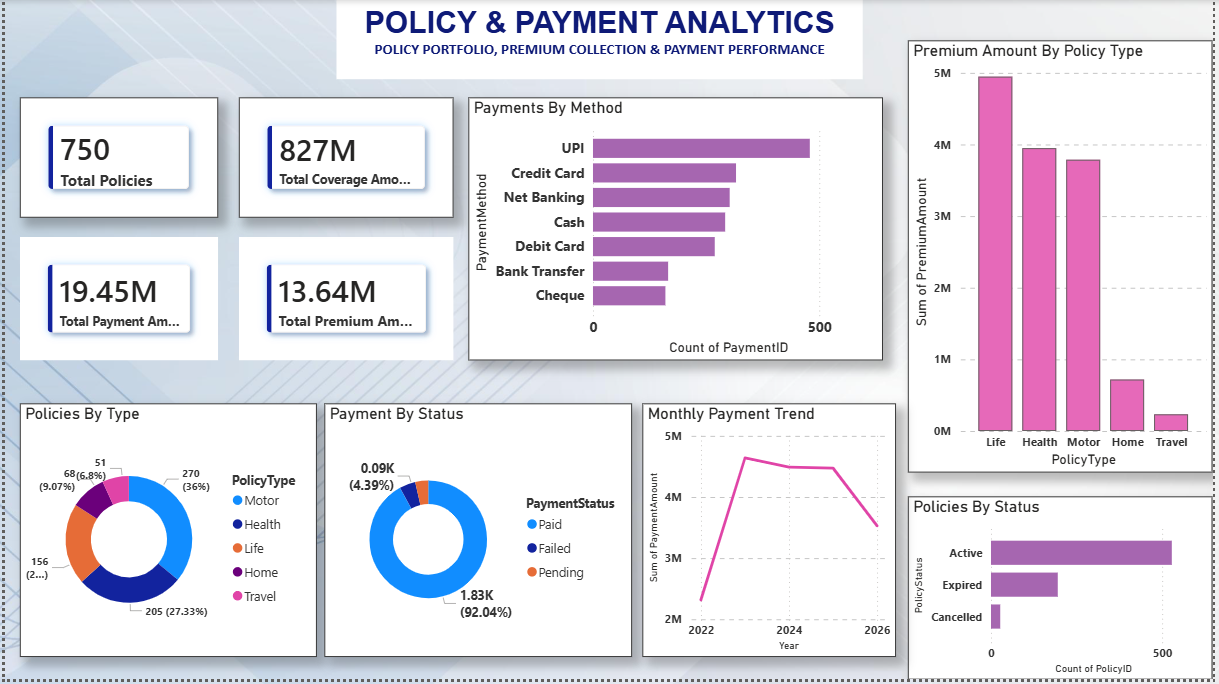

Layout of this report page (visuals, bound fields, positions):
{"tool":"powerbi","page":{"name":"Policy & Payment Analytics","canvas":[1280,720],"ordinal":2},"visuals":[{"type":"textbox","box":[351.5,0,558.3,84.3],"z":0},{"type":"cardVisual","fields":{"Data":["Claims.Total Premium Amount"]},"box":[248.1,251.3,227.5,130.4],"z":1000},{"type":"cardVisual","fields":{"Data":["Policies.Total Policies"]},"box":[15.9,103.4,210,127.2],"z":2000},{"type":"cardVisual","fields":{"Data":["Claims.Total Coverage Amount"]},"box":[248.1,103.4,227.5,127.2],"z":3000},{"type":"cardVisual","fields":{"Data":["Claims.Total Payment Amount"]},"box":[15.9,251.3,210,130.4],"z":4000},{"type":"donutChart","title":"Policies By Type","fields":{"Category":["Policies.PolicyType"],"Y":["CountNonNull(Policies.PolicyID)"]},"box":[15.9,427.9,314.9,268.8],"z":5000},{"type":"clusteredBarChart","title":"Policies By Status","fields":{"Category":["Policies.PolicyStatus"],"Y":["CountNonNull(Policies.PolicyID)"]},"box":[957.5,526.5,322.9,194.1],"z":6000},{"type":"clusteredColumnChart","title":"Premium Amount By Policy Type","fields":{"Category":["Policies.PolicyType"],"Y":["Sum(Policies.PremiumAmount)"]},"box":[957.5,42.9,322.9,458.1],"z":7000},{"type":"donutChart","title":"Payment By Status ","fields":{"Category":["Payments.PaymentStatus"],"Y":["CountNonNull(Payments.PaymentID)"]},"box":[338.8,427.9,326.1,268.8],"z":8000},{"type":"clusteredBarChart","title":"Payments By Method","fields":{"Category":["Payments.PaymentMethod"],"Y":["CountNonNull(Payments.PaymentID)"]},"box":[491.5,103.4,439,278.4],"z":9000},{"type":"lineChart","title":"Monthly Payment Trend","fields":{"Category":["Payments.PaymentDate.Variation.Date Hierarchy.Year","Payments.PaymentDate.Variation.Date Hierarchy.Month"],"Y":["Sum(Payments.PaymentAmount)"]},"box":[676,427.9,268.8,268.8],"z":10000}]}

Visuals, with their boxes in screenshot pixels (x1, y1, x2, y2), scaled from the page's 1280x720 canvas onto the 1219x684 screenshot:
textbox: locate(335, 0, 866, 80)
cardVisual - Claims.Total Premium Amount: locate(236, 239, 453, 363)
cardVisual - Policies.Total Policies: locate(15, 98, 215, 219)
cardVisual - Claims.Total Coverage Amount: locate(236, 98, 453, 219)
cardVisual - Claims.Total Payment Amount: locate(15, 239, 215, 363)
"Policies By Type" donutChart: locate(15, 407, 315, 662)
"Policies By Status" clusteredBarChart: locate(912, 500, 1218, 683)
"Premium Amount By Policy Type" clusteredColumnChart: locate(912, 41, 1218, 476)
"Payment By Status " donutChart: locate(323, 407, 633, 662)
"Payments By Method" clusteredBarChart: locate(468, 98, 886, 363)
"Monthly Payment Trend" lineChart: locate(644, 407, 900, 662)
